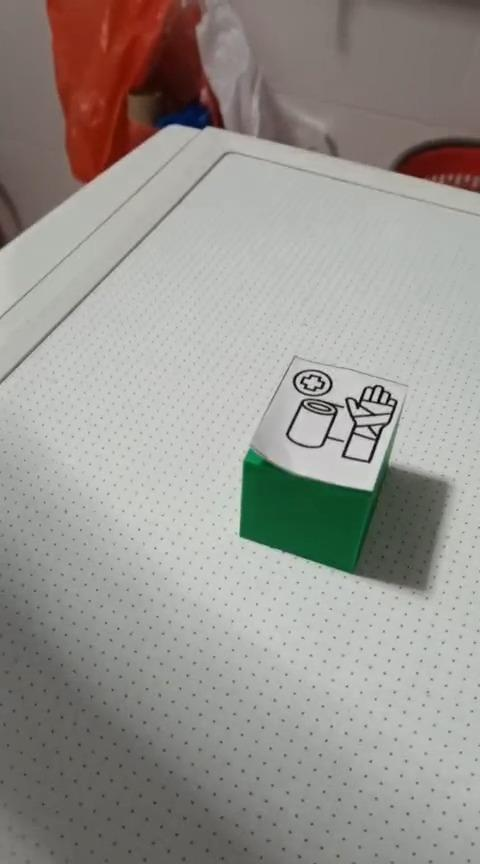Bandages: (237, 354, 408, 573)
